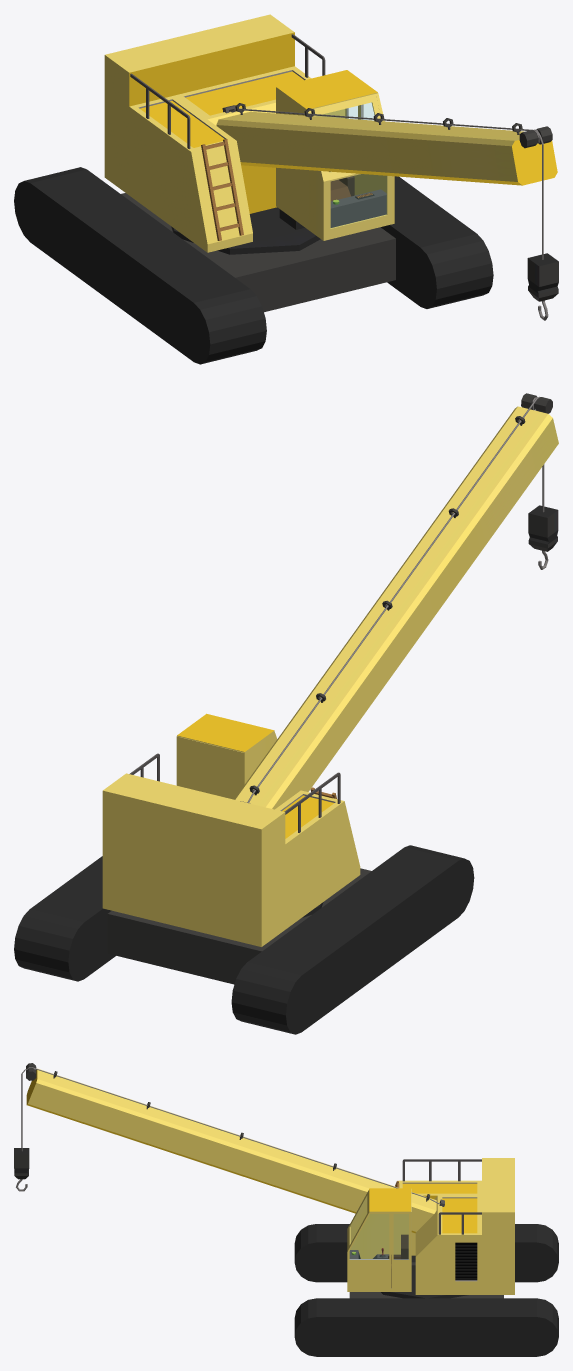
The model's file is cran.fbx.
3 views of the same model, one above another, from view 1: azimuth 30°, elevation 25°; view 2: azimuth 150°, elevation 25°; view 3: azimuth 270°, elevation 25° (orthographic). The views are drawn at different scales.
Visible parts, largest first — view 1: Cabin, Gusenica, Kruk, Stairway, Door; view 2: Cabin, Gusenica, Kruk; view 3: Cabin, Gusenica, Door, Kruk.
Boxes of the visible parts, left/top/right/bottom form: Cabin: left=104, top=14, right=557, bottom=259; Gusenica: left=14, top=167, right=493, bottom=364; Kruk: left=527, top=253, right=558, bottom=320; Stairway: left=201, top=139, right=243, bottom=240; Door: left=359, top=93, right=394, bottom=224; Cabin: left=102, top=393, right=558, bottom=946; Gusenica: left=14, top=845, right=474, bottom=1034; Kruk: left=528, top=505, right=558, bottom=569; Cabin: left=21, top=1063, right=514, bottom=1298; Gusenica: left=294, top=1224, right=558, bottom=1356; Door: left=347, top=1212, right=391, bottom=1291; Kruk: left=14, top=1148, right=29, bottom=1191.
Bounding box in the file's own units: 1000 × 1198 × 2473.
